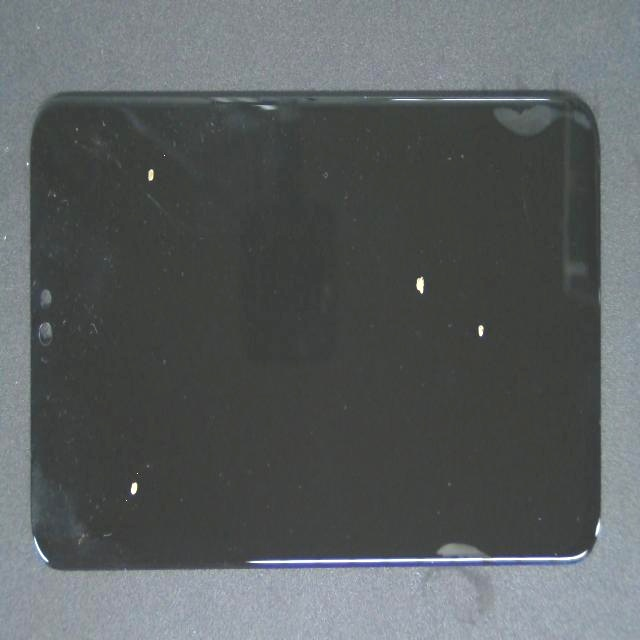stain: (229, 140, 640, 505), (225, 125, 635, 376), (59, 259, 177, 640), (56, 78, 217, 289)
